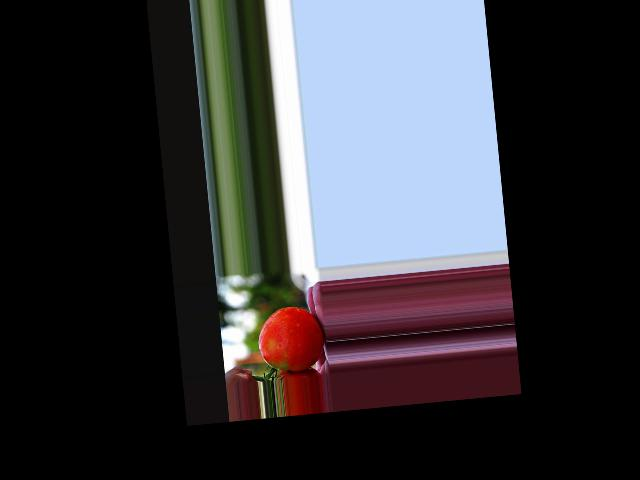tomato: (255, 304, 326, 373)
